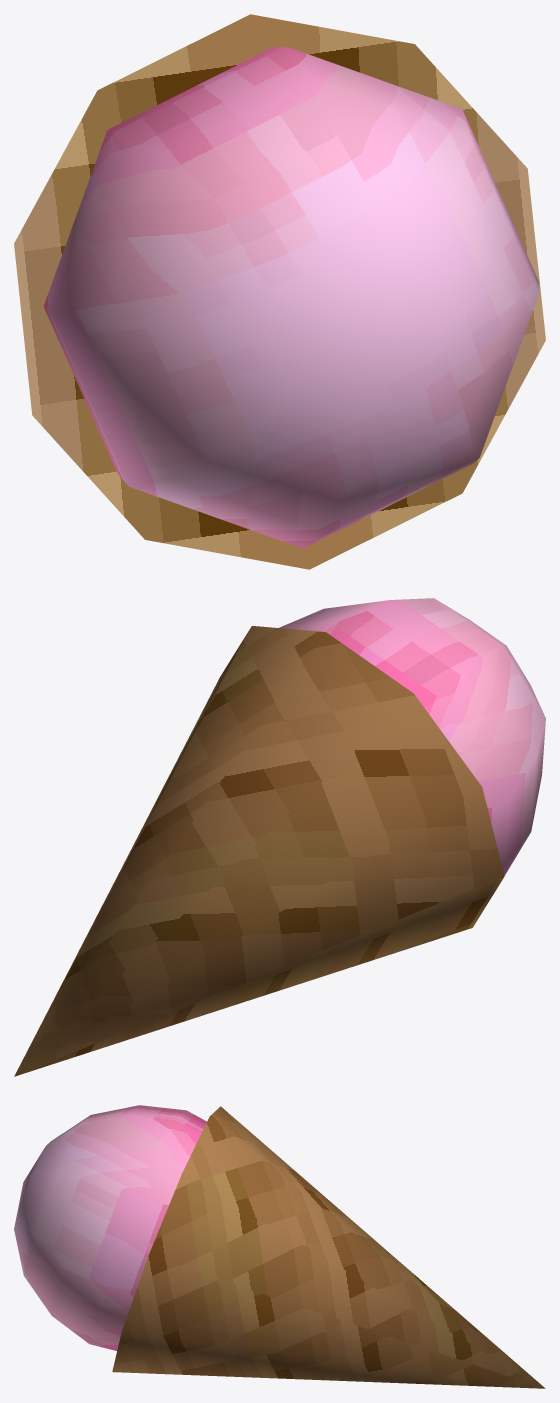
File: icecream02.dae
The picture shows the model from 3 angles, top to bottom: view 1: azimuth 30°, elevation 25°; view 2: azimuth 150°, elevation 25°; view 3: azimuth 270°, elevation 25°; orthographic projection. The views are drawn at different scales.
Parts seen in each view (by area): view 1: icecream02; view 2: icecream02; view 3: icecream02.
Boxes of the visible parts, bbox=[...] form: icecream02: bbox=[14, 14, 545, 569]; icecream02: bbox=[14, 598, 545, 1076]; icecream02: bbox=[14, 1105, 545, 1388].
Bounding box in the file's own units: 6.22 × 6.3 × 12.08.
Materials: 1 (1 with a texture image).
